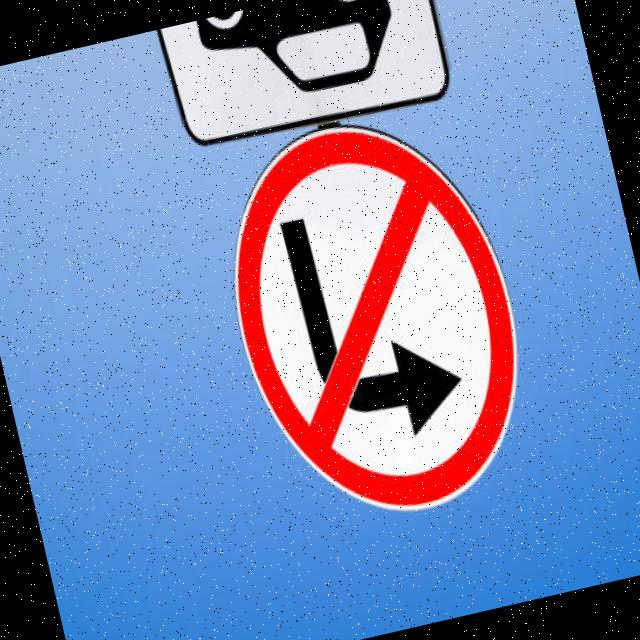do_not_turn_right: (191, 88, 560, 561)
